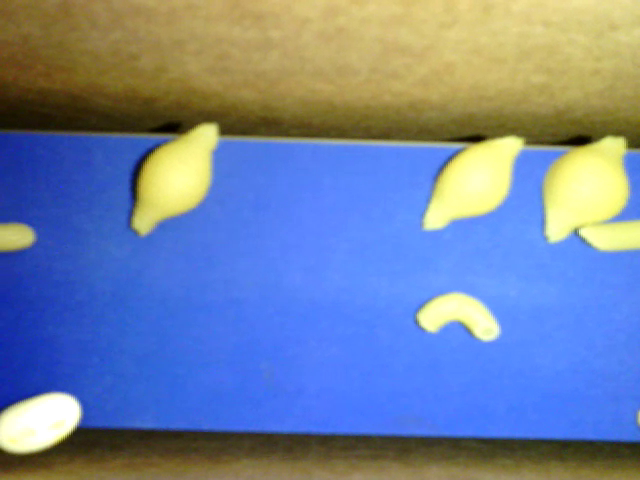elbow: (416, 292, 500, 342)
penne: (578, 220, 639, 253)
shell: (421, 134, 525, 232), (129, 123, 218, 237), (543, 136, 629, 244)
